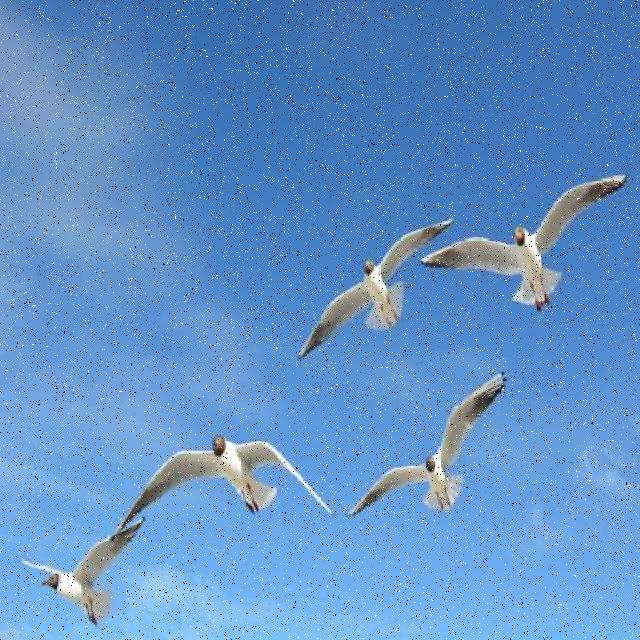bird: (418, 175, 630, 314), (111, 434, 337, 543), (346, 370, 507, 516), (298, 218, 452, 364), (22, 514, 147, 630)
